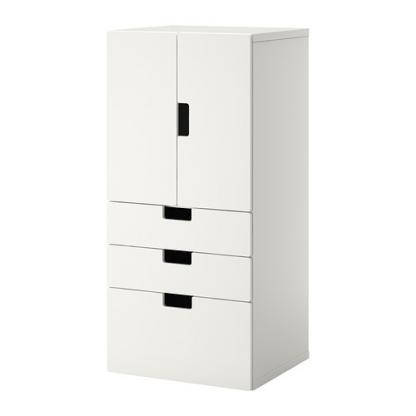Cabinet: (100, 20, 314, 392)
